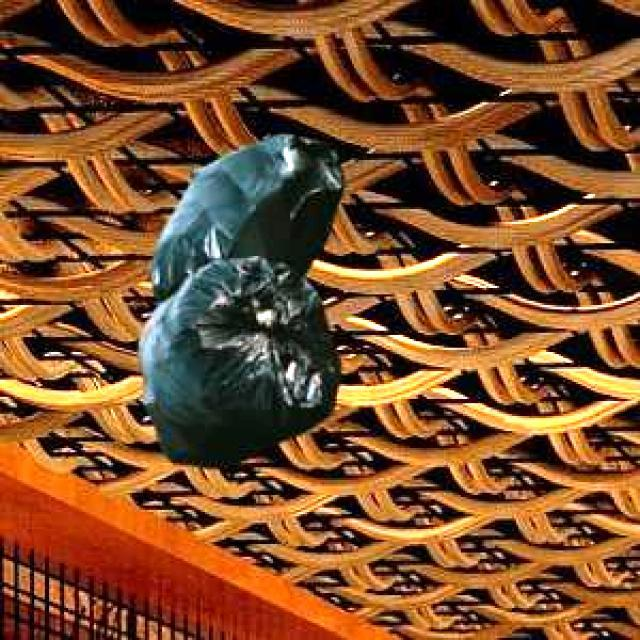Garbage_Bag: (136, 131, 340, 464)
